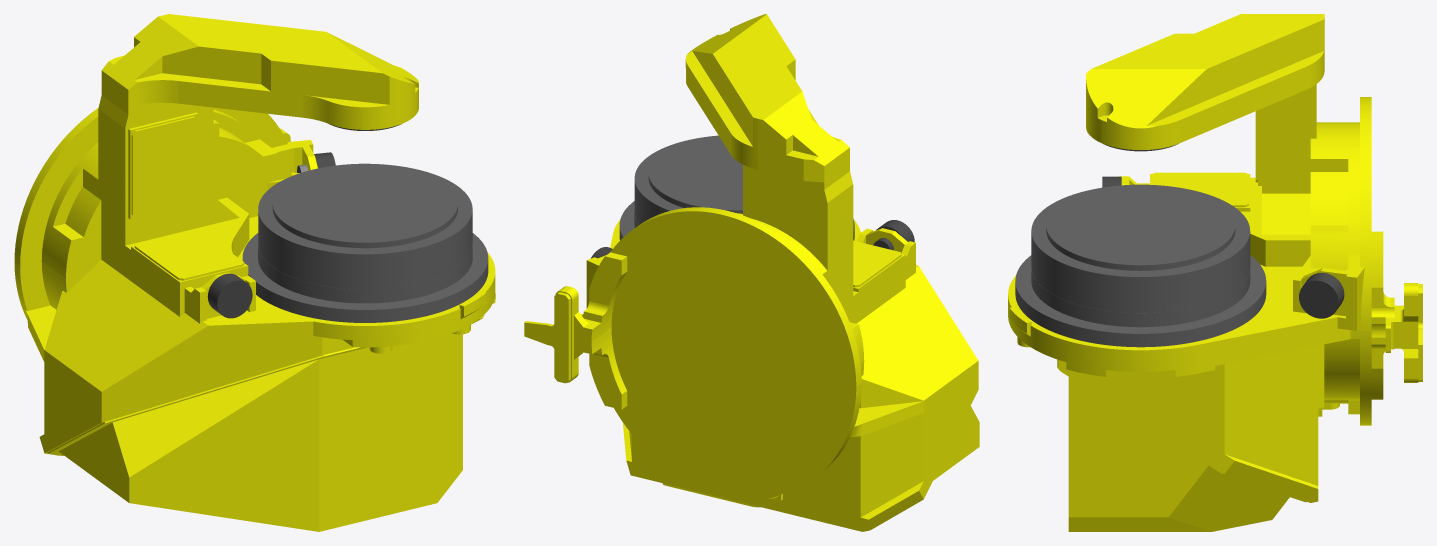
3 views of the same model, side by side, from view 1: azimuth 30°, elevation 25°; view 2: azimuth 150°, elevation 25°; view 3: azimuth 270°, elevation 25° (orthographic). The views are drawn at different scales.
Parts seen in each view (by area): view 1: Mesh_0; view 2: Mesh_0; view 3: Mesh_0.
Boxes of the visible parts, x1,y1,x2,y2 form: Mesh_0: (14,14,495,531); Mesh_0: (524,14,979,531); Mesh_0: (1008,14,1422,531).
Size of the model in its own units: 0.566 by 0.6308 by 0.5375.
